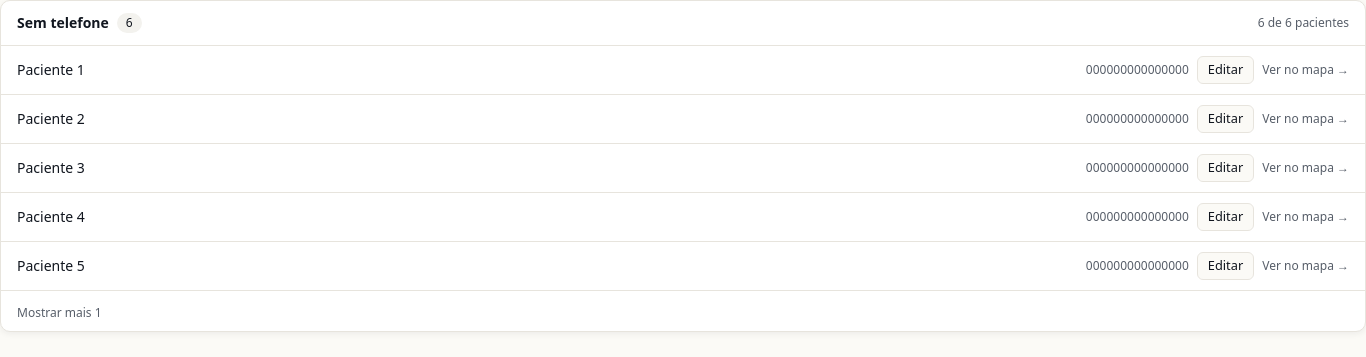
QualityView › collapses rows beyond 5 and expands when Mostrar mais is clicked
Expected: the text "Paciente 1" is shown, [17,60,85,79]
Expected: the text "Paciente 6" is not shown
Click the button "Mostrar mais 1" at (59, 313), box [17,305,102,321]
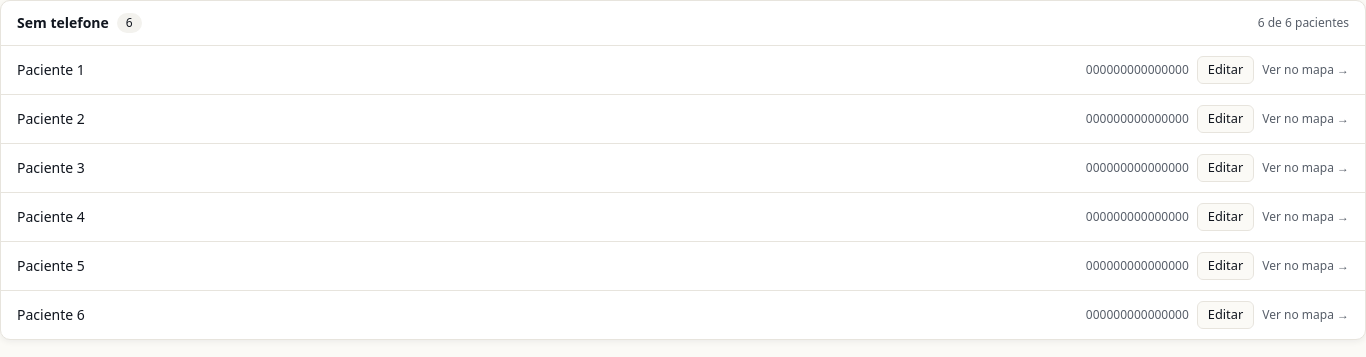
Expected: the text "Paciente 6" is shown, [17,305,85,324]
